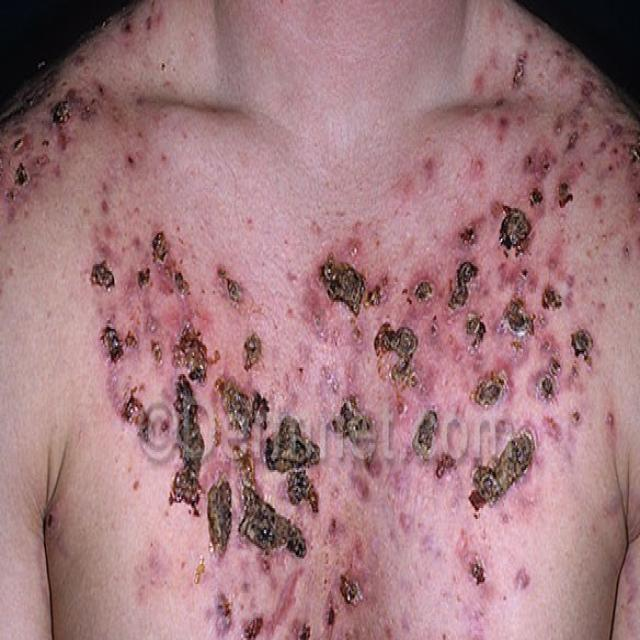Acne: (66, 220, 318, 586), (323, 185, 592, 522), (481, 0, 640, 201), (76, 39, 171, 170), (0, 154, 57, 365)
